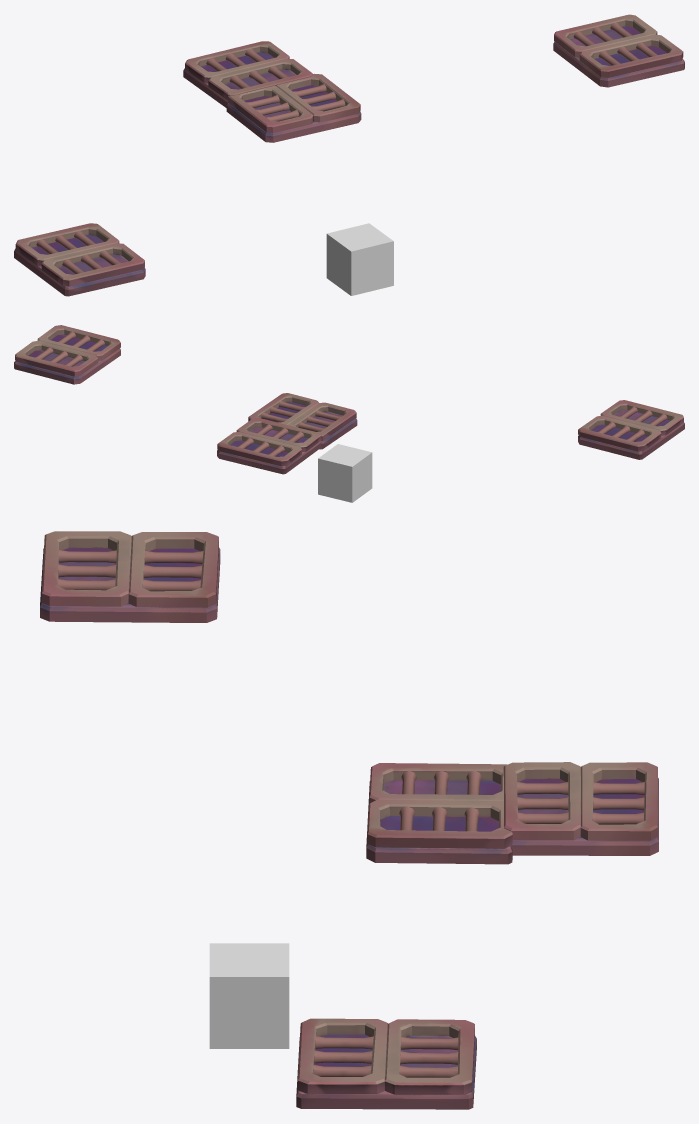
The model's file is battlescence-1-floor004.fbx.
3 views of the same model, one above another, from view 1: azimuth 30°, elevation 25°; view 2: azimuth 150°, elevation 25°; view 3: azimuth 270°, elevation 25° (orthographic). The views are drawn at different scales.
Visible parts, largest first — view 1: Cube.018, Cube.049, Cube.035, Cube.054, battlescence-1-floor004; view 2: Cube.018, Cube.049, Cube.054, Cube.035, battlescence-1-floor004; view 3: Cube.049, Cube.018, Cube.054, Cube.035, battlescence-1-floor004.
Boxes of the visible parts, bbox=[...] form: Cube.018: bbox=[553, 14, 684, 87]; Cube.049: bbox=[14, 223, 145, 296]; Cube.035: bbox=[226, 73, 361, 142]; Cube.054: bbox=[183, 41, 312, 107]; battlescence-1-floor004: bbox=[326, 223, 393, 295]; Cube.018: bbox=[14, 325, 120, 384]; Cube.049: bbox=[578, 400, 684, 459]; Cube.054: bbox=[217, 418, 321, 474]; Cube.035: bbox=[248, 393, 357, 449]; battlescence-1-floor004: bbox=[318, 444, 372, 502]; Cube.049: bbox=[40, 531, 220, 622]; Cube.018: bbox=[296, 1018, 476, 1109]; Cube.054: bbox=[503, 762, 658, 855]; Cube.035: bbox=[366, 763, 512, 864]; battlescence-1-floor004: bbox=[209, 943, 289, 1048].
Size of the model in its own units: 2124 by 412 by 1006.
